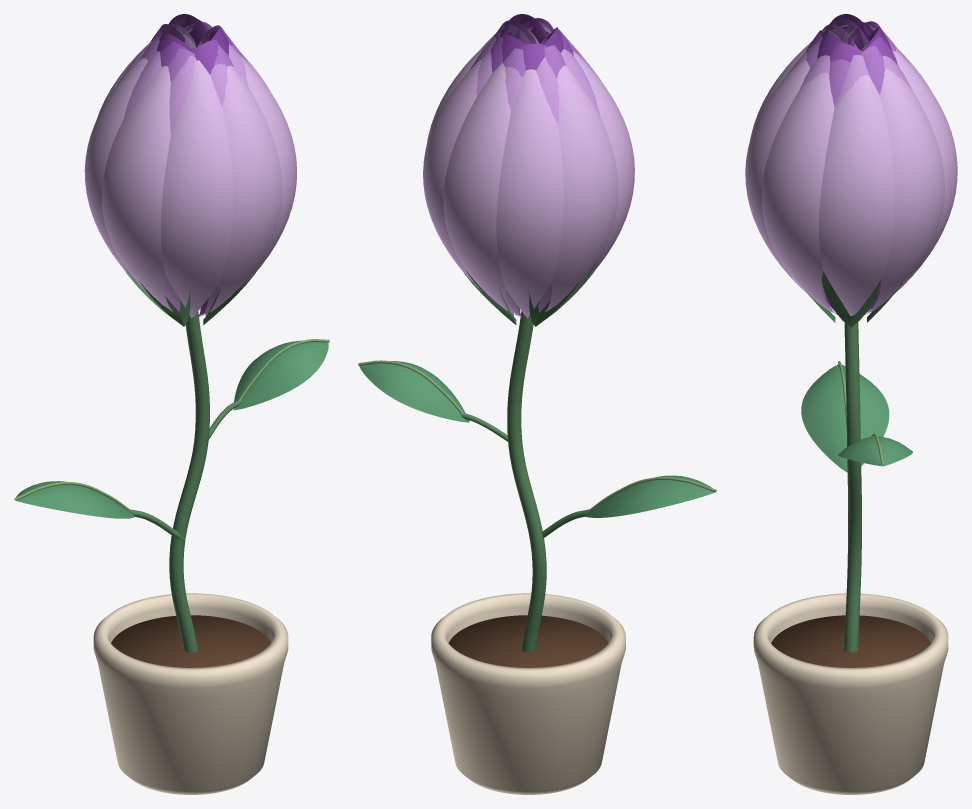
File: flower.glb
3 views of the same model, side by side, from view 1: azimuth 30°, elevation 25°; view 2: azimuth 150°, elevation 25°; view 3: azimuth 270°, elevation 25° (orthographic).
Parts seen in each view (by area): view 1: Pot_Ceramic, Petal_L00_06, Petal_L00_05, Petal_L00_07, Soil_Surface, Stem_Main_ExportMesh, Leaf_Right, Petal_L00_04, Petal_L00_08, Leaf_Left, Petal_L01_02, Petal_L01_01 (+2 smaller); view 2: Pot_Ceramic, Petal_L00_03, Petal_L00_04, Petal_L00_02, Soil_Surface, Stem_Main_ExportMesh, Petal_L00_01, Leaf_Right, Petal_L00_05, Leaf_Left, Petal_L01_00, Petal_L01_07 (+1 smaller); view 3: Pot_Ceramic, Petal_L00_00, Petal_L00_08, Petal_L00_01, Soil_Surface, Leaf_Left, Stem_Main_ExportMesh, Petal_L00_07, Petal_L00_02, Leaf_Right, Sepal_00, Petal_L02_02 (+6 smaller).
Part boxes in pixels (<box>): Pot_Ceramic: <box>93,593,288,794</box>; Petal_L00_06: <box>161,60,233,317</box>; Petal_L00_05: <box>102,66,172,311</box>; Petal_L00_07: <box>203,65,282,315</box>; Soil_Surface: <box>111,615,270,667</box>; Stem_Main_ExportMesh: <box>169,311,209,652</box>; Leaf_Right: <box>233,340,328,410</box>; Petal_L00_04: <box>84,58,149,295</box>; Petal_L00_08: <box>238,54,296,290</box>; Leaf_Left: <box>15,481,134,518</box>; Petal_L01_02: <box>164,55,196,311</box>; Petal_L01_01: <box>123,51,161,118</box>; Pot_Ceramic: <box>431,593,625,794</box>; Petal_L00_03: <box>496,69,563,317</box>; Petal_L00_04: <box>545,65,618,311</box>; Petal_L00_02: <box>443,63,517,315</box>; Soil_Surface: <box>448,615,608,667</box>; Stem_Main_ExportMesh: <box>507,311,546,652</box>; Petal_L00_01: <box>423,60,482,291</box>; Leaf_Right: <box>359,361,469,422</box>; Petal_L00_05: <box>569,51,634,296</box>; Leaf_Left: <box>585,475,715,517</box>; Petal_L01_00: <box>536,56,559,312</box>; Petal_L01_07: <box>505,67,521,317</box>; Pot_Ceramic: <box>753,593,948,794</box>; Petal_L00_00: <box>819,75,894,315</box>; Petal_L00_08: <box>761,72,837,314</box>; Petal_L00_01: <box>865,69,944,314</box>; Soil_Surface: <box>771,615,930,667</box>; Leaf_Left: <box>801,364,889,472</box>; Stem_Main_ExportMesh: <box>844,322,861,652</box>; Petal_L00_07: <box>745,60,835,312</box>; Petal_L00_02: <box>868,51,957,311</box>; Leaf_Right: <box>838,436,912,466</box>; Sepal_00: <box>821,270,880,327</box>; Petal_L02_02: <box>860,45,884,311</box>.
Bounding box in the file's own units: 2.11 × 4.45 × 1.16.
